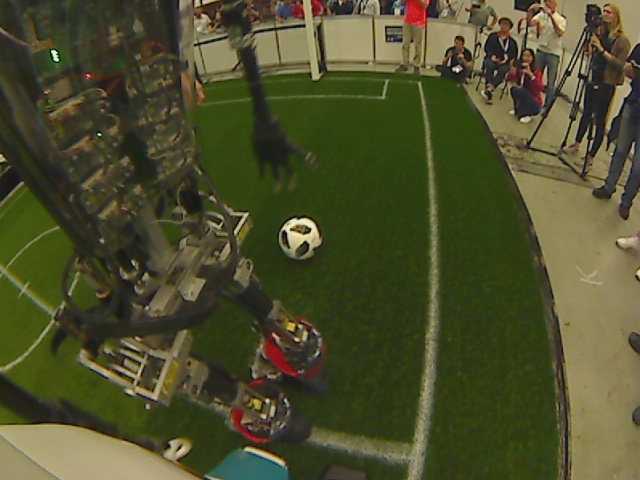ball: (276, 215, 323, 265)
goalpost: (302, 62, 327, 85)
robot: (234, 320, 324, 439)
